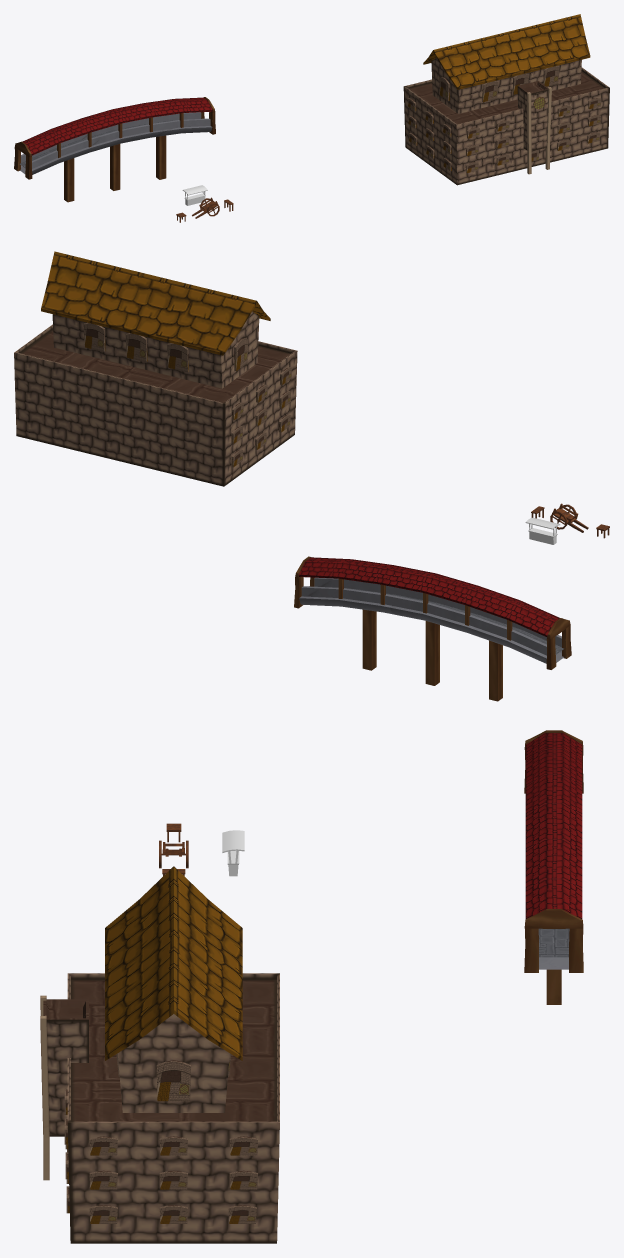
Rendered from Cart_01.FBX.
3 views of the same model, one above another, from view 1: azimuth 30°, elevation 25°; view 2: azimuth 150°, elevation 25°; view 3: azimuth 270°, elevation 25° (orthographic). The views are drawn at different scales.
Parts seen in each view (by area): view 1: Townhall, Bridge_01, Marketstand, Cart_01; view 2: Townhall, Bridge_01, Marketstand; view 3: Townhall, Bridge_01, Marketstand.
Part boxes in pixels (x1=…): Townhall: x1=403, y1=14, x2=609, y2=185; Bridge_01: x1=14, y1=97, x2=215, y2=202; Marketstand: x1=182, y1=185, x2=207, y2=205; Cart_01: x1=192, y1=197, x2=219, y2=218; Townhall: x1=14, y1=251, x2=297, y2=486; Bridge_01: x1=294, y1=556, x2=571, y2=701; Marketstand: x1=525, y1=517, x2=560, y2=544; Townhall: x1=40, y1=866, x2=279, y2=1243; Bridge_01: x1=524, y1=730, x2=583, y2=1004; Marketstand: x1=222, y1=830, x2=244, y2=876.
Size of the model in its own units: 76.41 by 24.04 by 38.4.
Materials: 3 (3 with a texture image).
